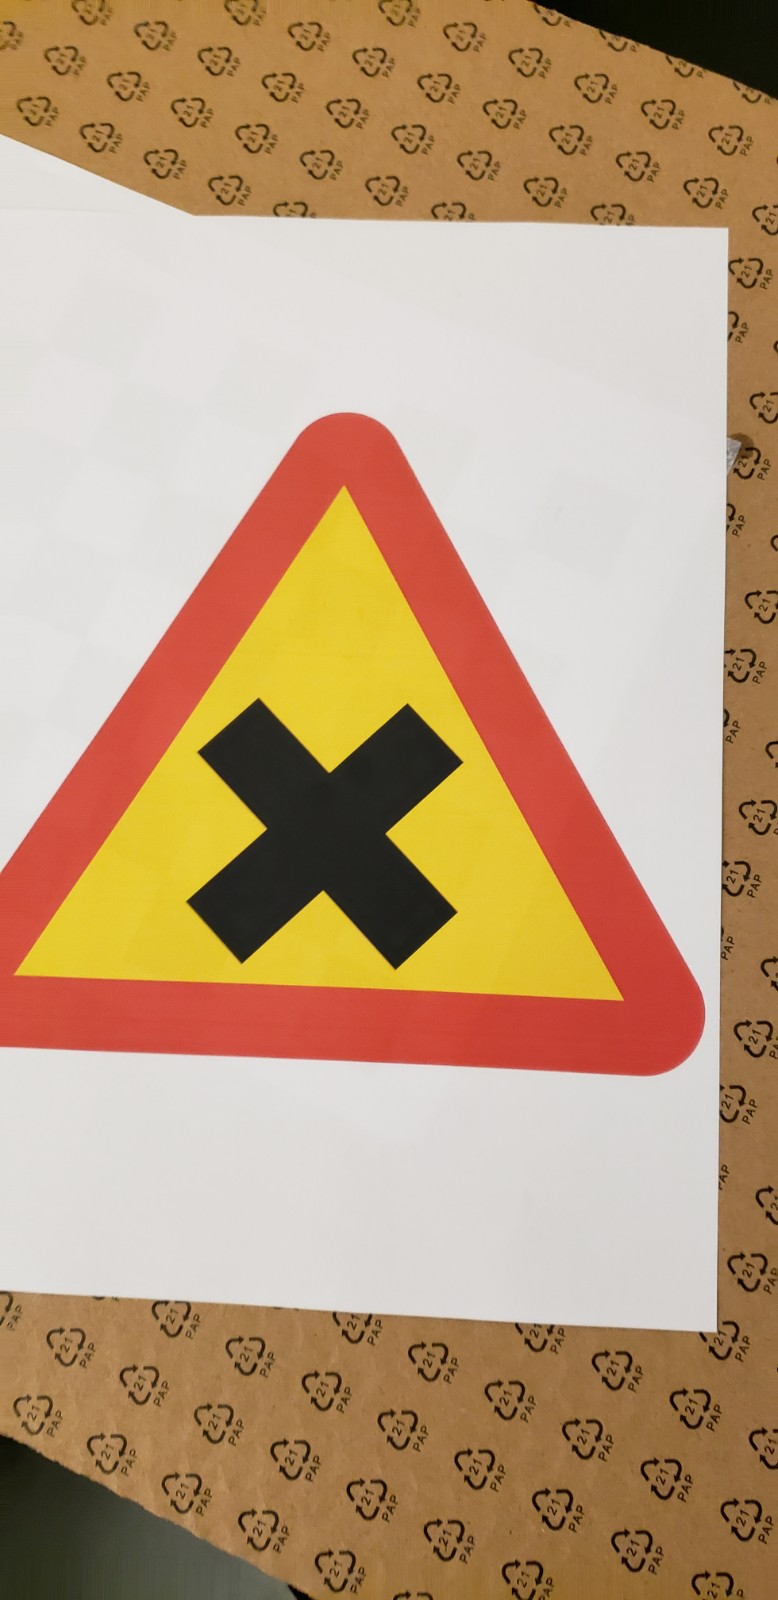junction: (1, 372, 778, 1186)
